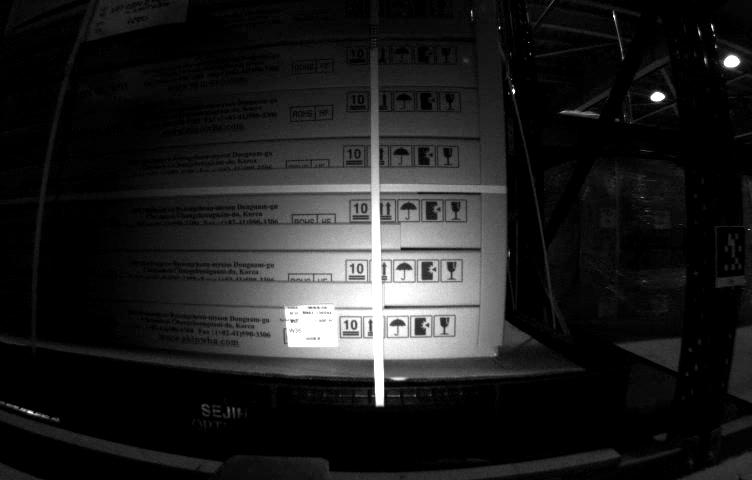True Barcode: (281, 304, 339, 347)
